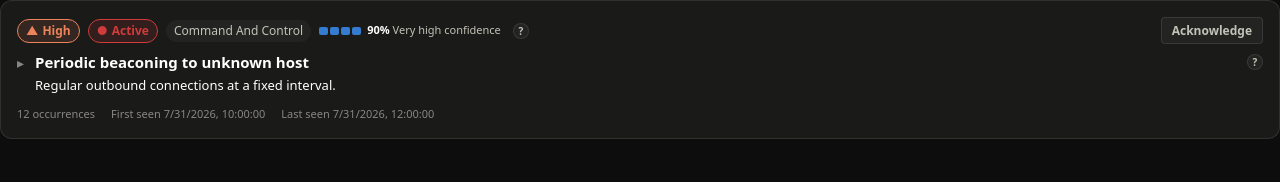
it: ThreatRow › surfaces an error when acknowledging fails
The image size is (1280, 182).
Click the button "Acknowledge" at (1212, 30), box [1161,17,1263,44]
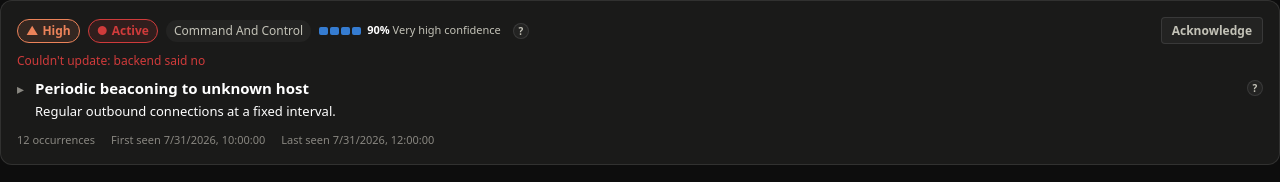
Result: the message shows "backend said no" at [114,52,205,69]
